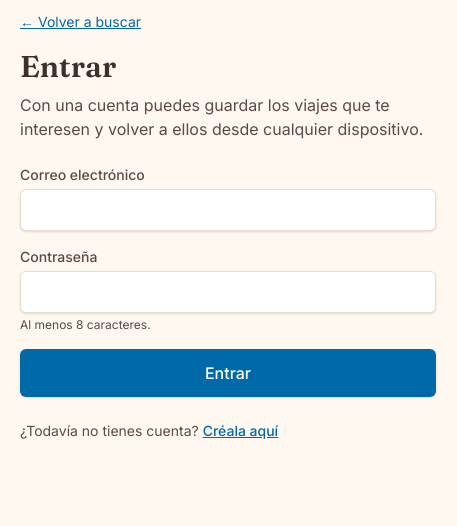
Test: Pantalla de cuenta › enseña el error cuando las credenciales no son correctas
Type "alguien@ejemplo.test" into the field labelled "Correo electrónico". click: (228, 210)
box: [20, 189, 436, 231]
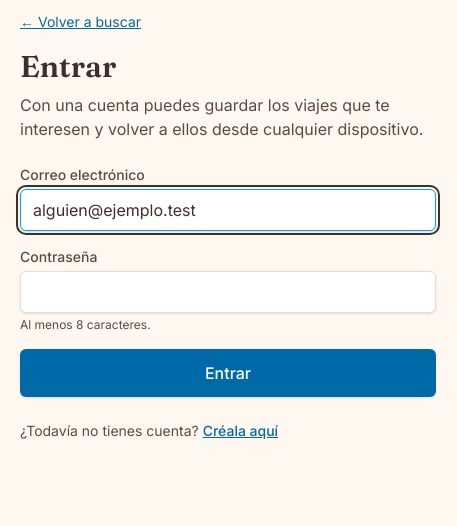
Type "contraseña-larga" into the password field labelled "Contraseña". click: (228, 292)
box: [20, 271, 436, 313]
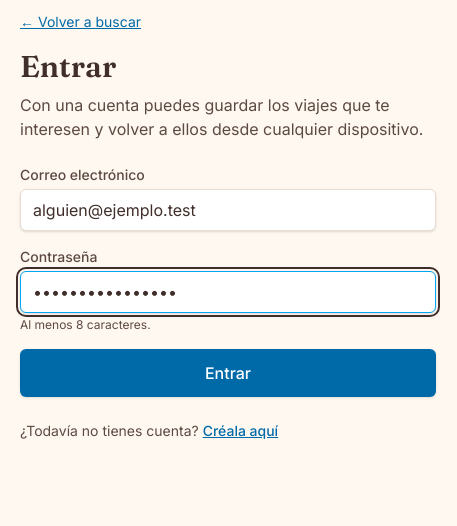
Click the button "Entrar". click: click(228, 373)
box: [20, 349, 436, 397]
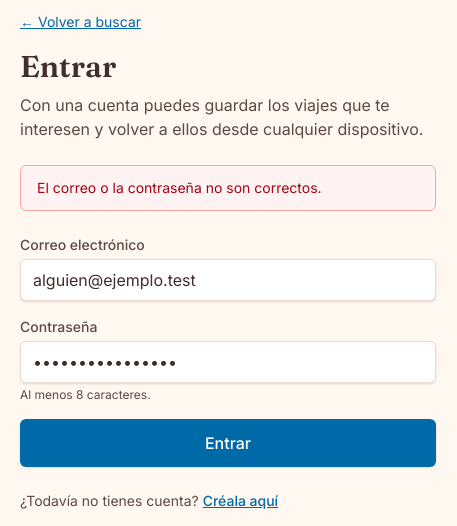
Now the text "El correo o la contraseña no son correctos." is shown, box [20, 165, 436, 211]
